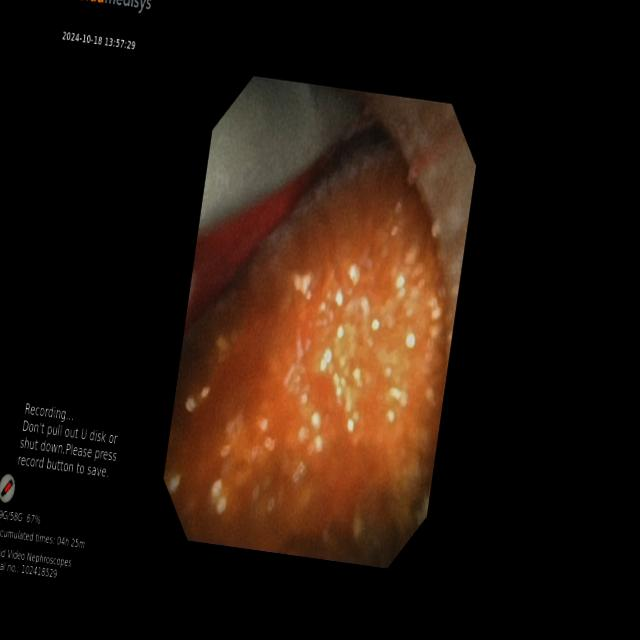stone-new: (164, 128, 446, 566)
